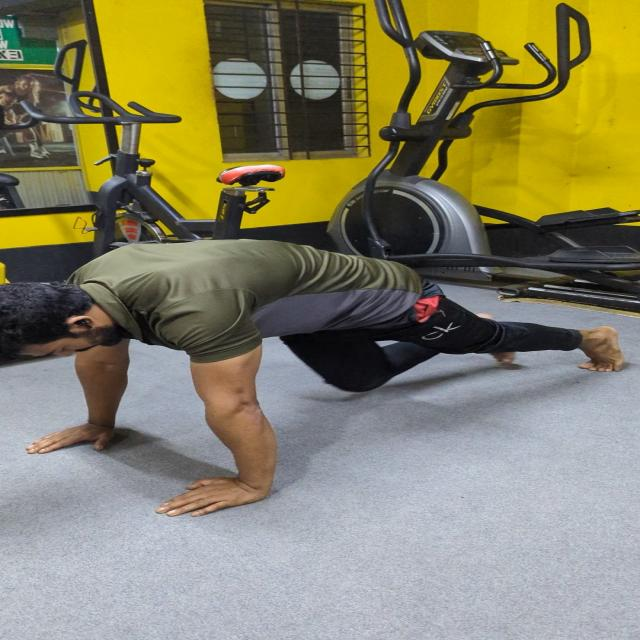Normal_MountainClimbers: (0, 210, 640, 538)
